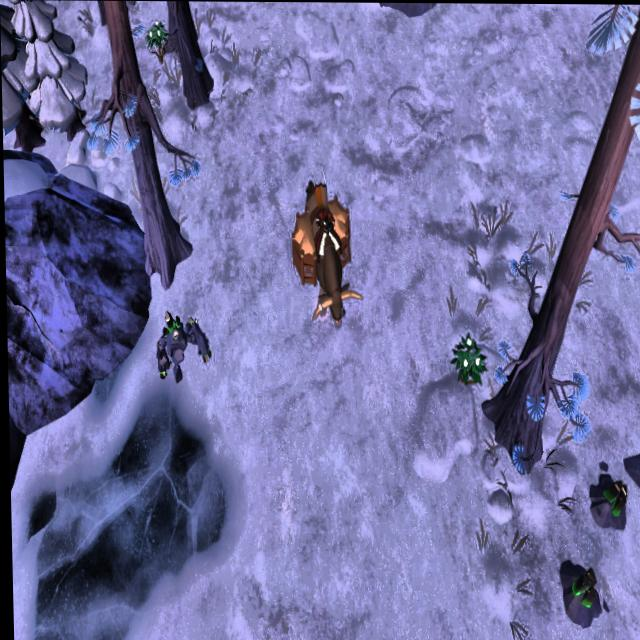fiber_t3: (448, 329, 486, 388), (146, 14, 170, 55)
ore_t3: (568, 559, 595, 611), (601, 474, 628, 514)
